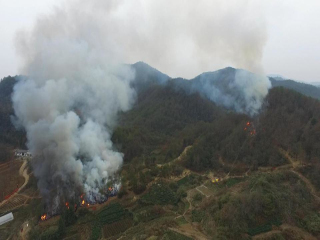smoke: (10, 10, 141, 210), (191, 7, 273, 119)
